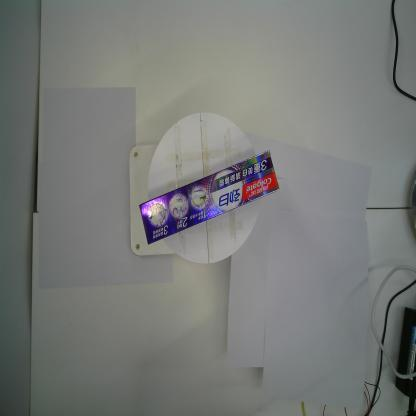Personal Hygiene: (139, 150, 279, 244)
